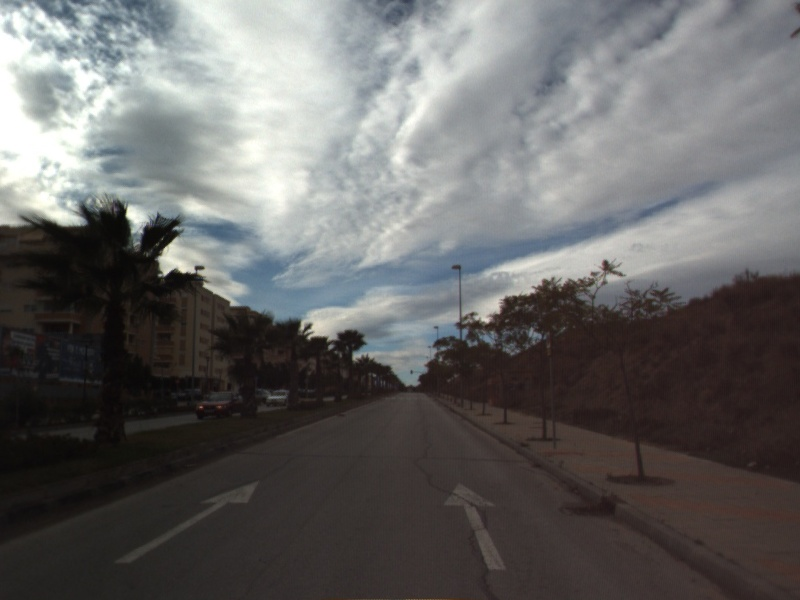STRAIGHT: (113, 478, 262, 565), (441, 480, 509, 571)
